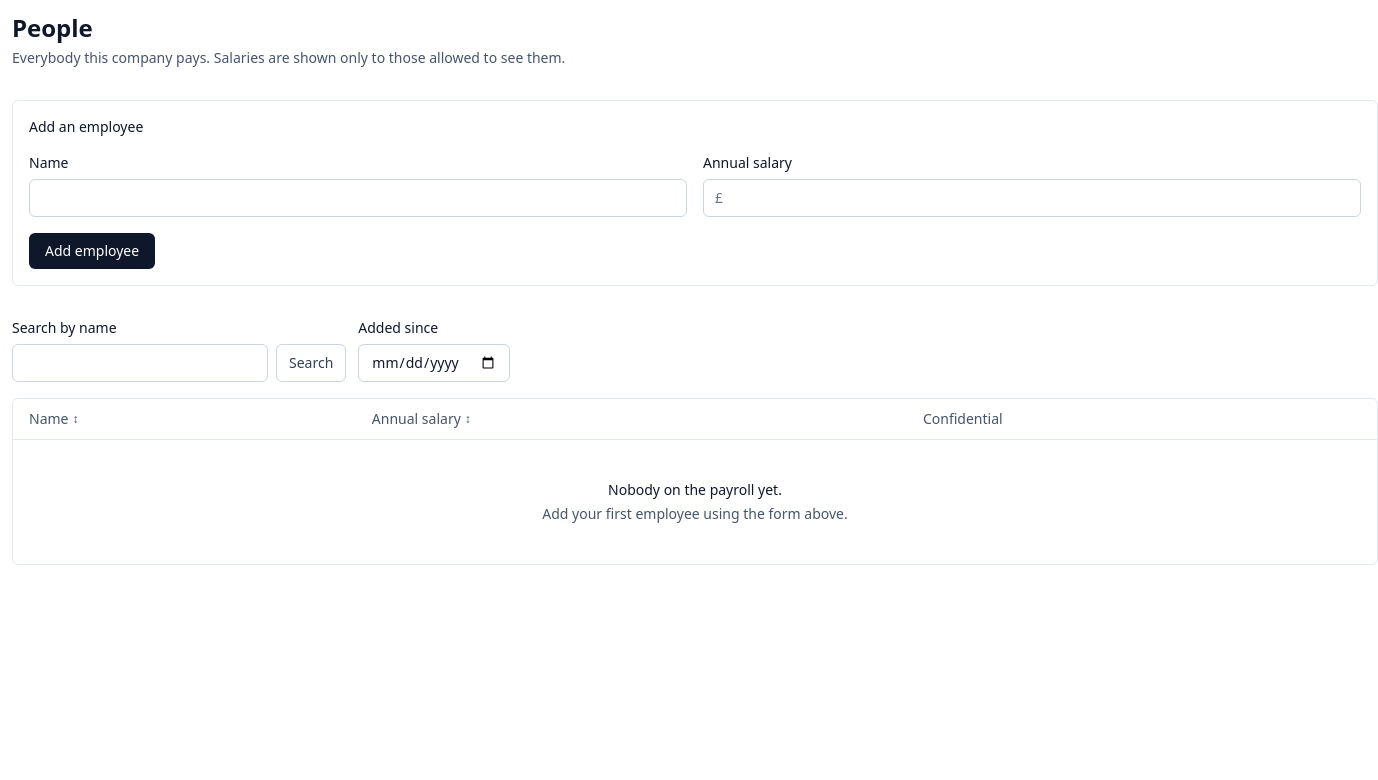
Test: EmployeesPage › adding somebody › refuses a keystroke that could not become an amount
This screenshot has width=1378, height=780.
Type "12a.999" into the field labelled "Annual salary".
click(1032, 198); type("12a.999")  # box [703,179,1361,217]
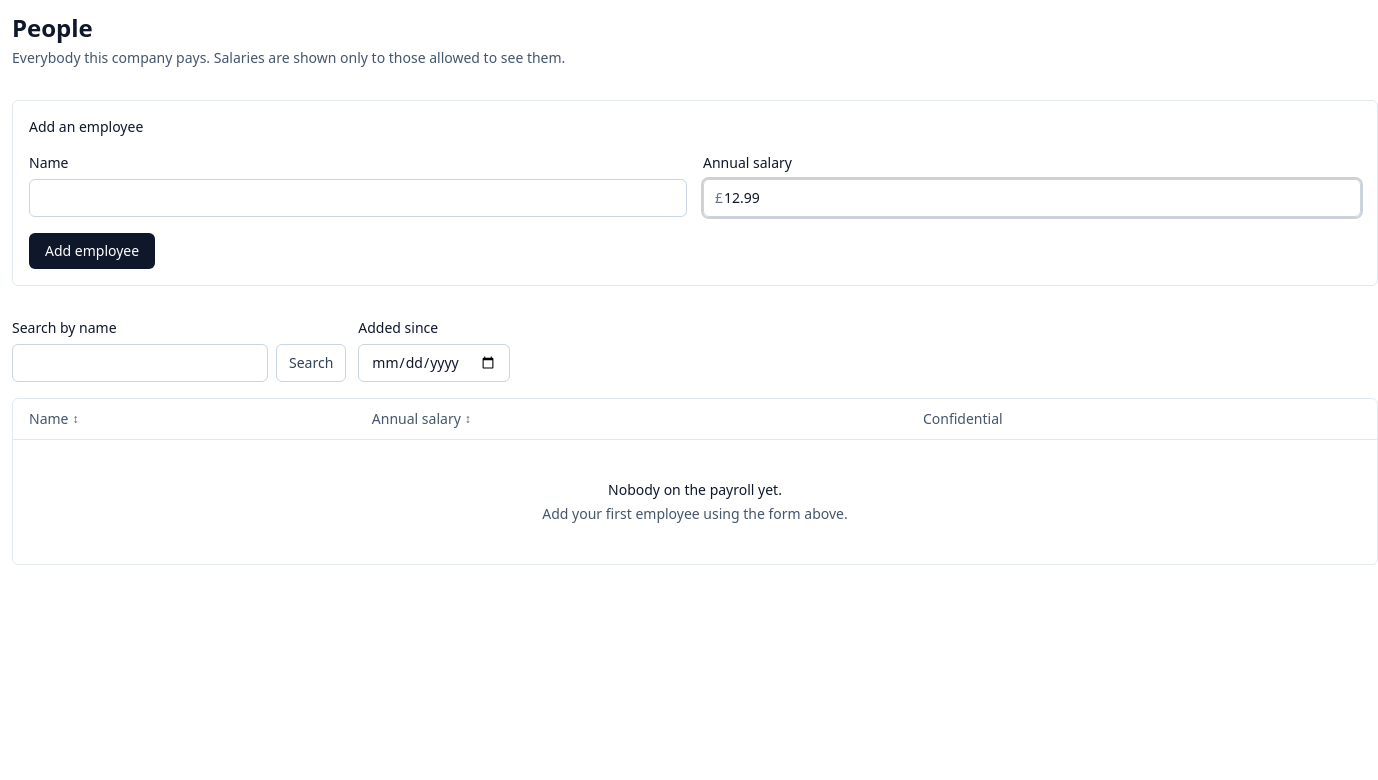
Now the field labelled "Annual salary" holds "12.99", box [703,179,1361,217]
